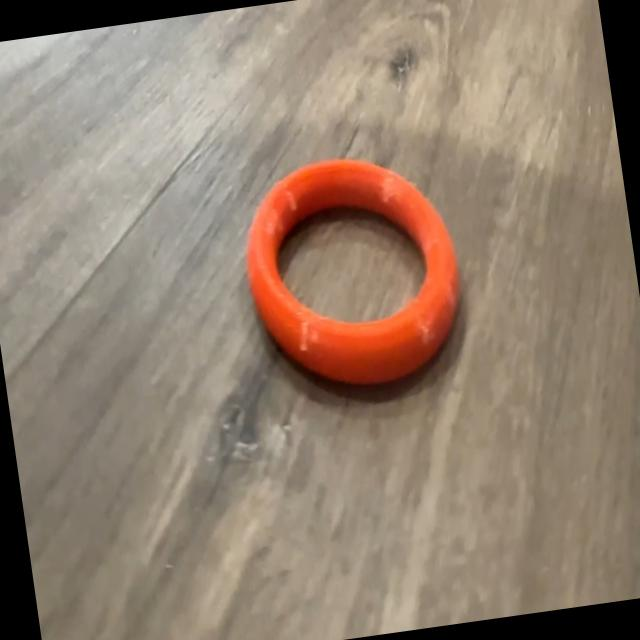note: (232, 138, 477, 412)
